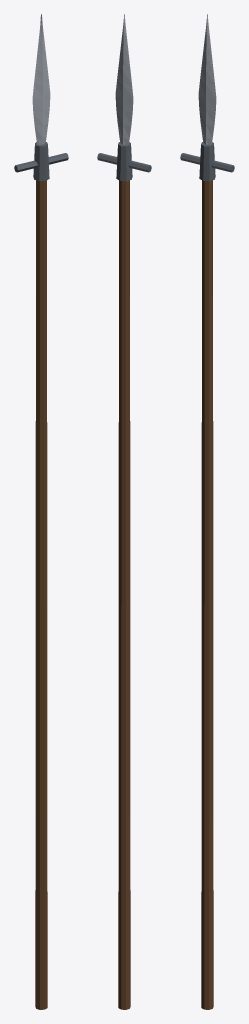
The model's file is g-longspear.glb.
3 renders of one model, left to right at view 1: azimuth 30°, elevation 25°; view 2: azimuth 150°, elevation 25°; view 3: azimuth 330°, elevation 25°, orthographic.
Visible parts, largest first — view 1: g-longspear; view 2: g-longspear; view 3: g-longspear.
Boxes of the visible parts, x1,y1,x2,y2 form: g-longspear: (14, 14, 68, 1009); g-longspear: (97, 14, 151, 1009); g-longspear: (180, 14, 234, 1009).
Size of the model in its own units: 0.14 by 2.61 by 0.04.
